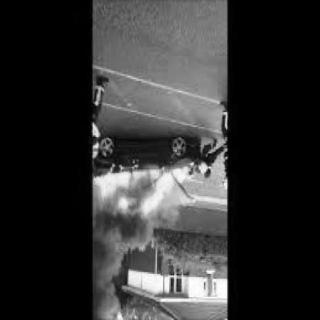Smoke: (92, 209, 154, 320)
